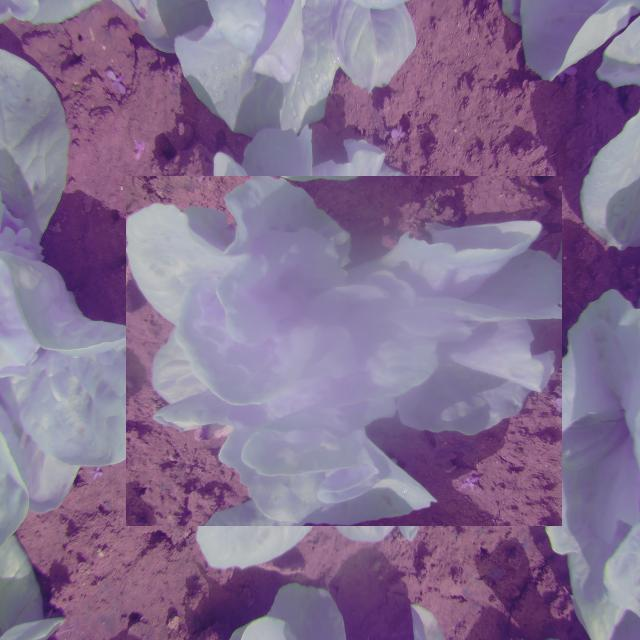vege: (147, 154, 541, 547)
